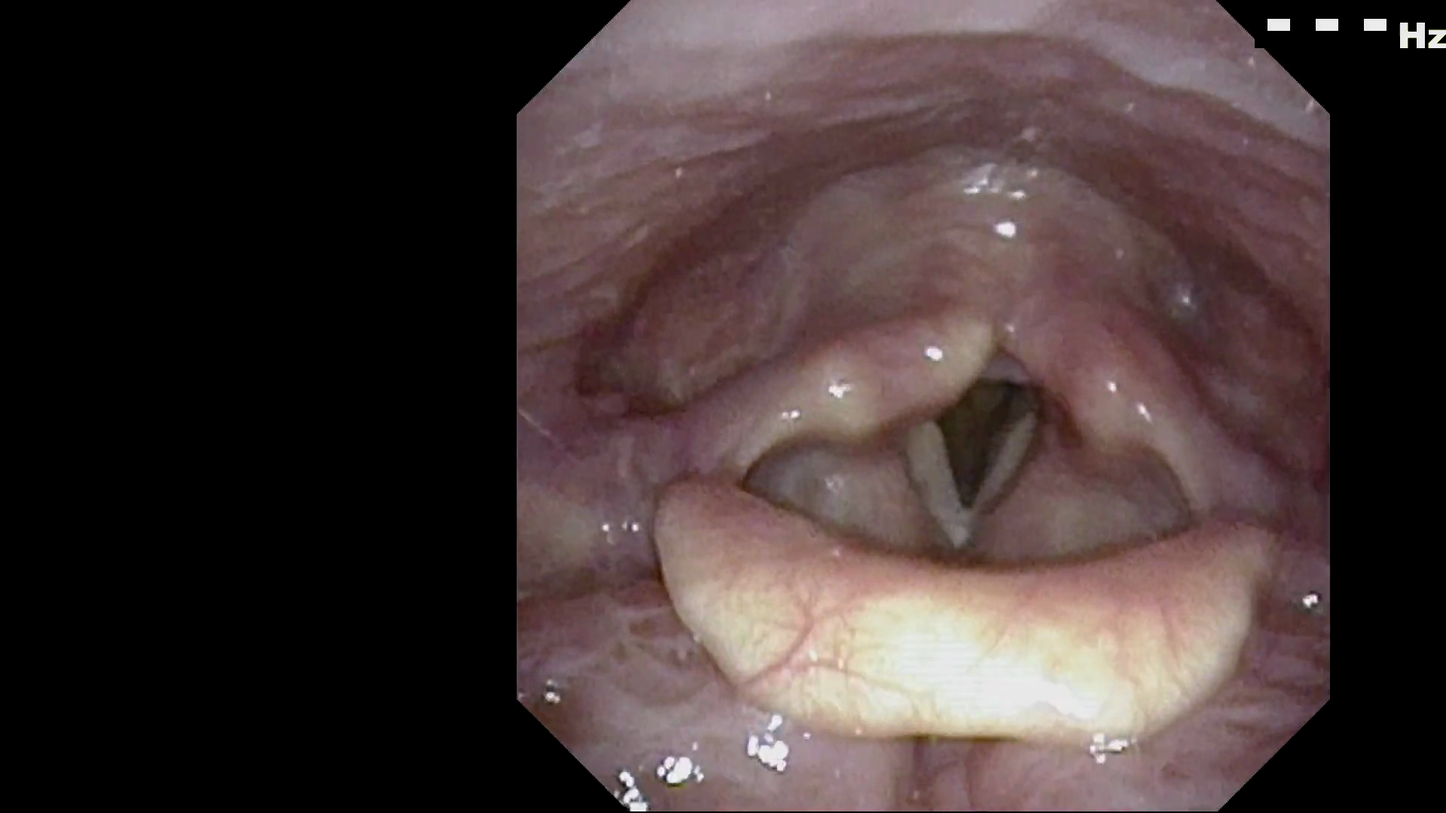epiglottis: (678, 467, 1270, 737)
trachea: (895, 359, 1061, 531)
